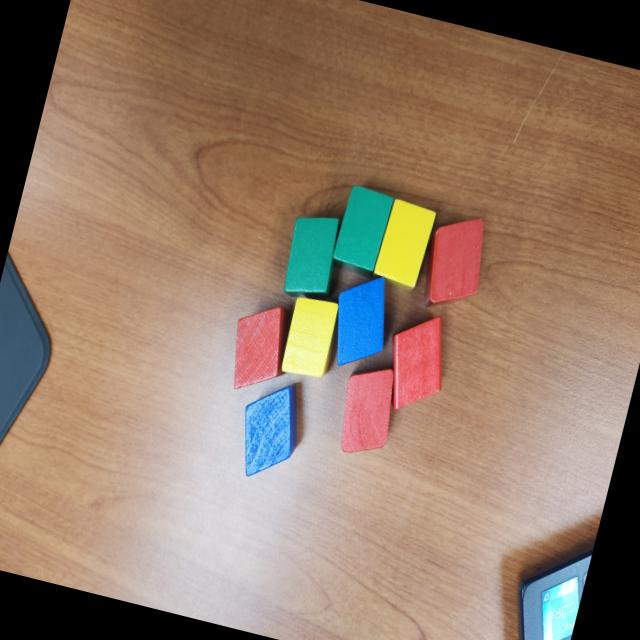blue: (228, 370, 313, 486), (321, 268, 400, 377)
green: (276, 206, 346, 306), (330, 182, 396, 270)
red: (374, 305, 458, 420), (412, 206, 494, 321), (221, 295, 301, 400), (329, 357, 406, 462)
yellow: (277, 292, 347, 383), (372, 198, 437, 290)
